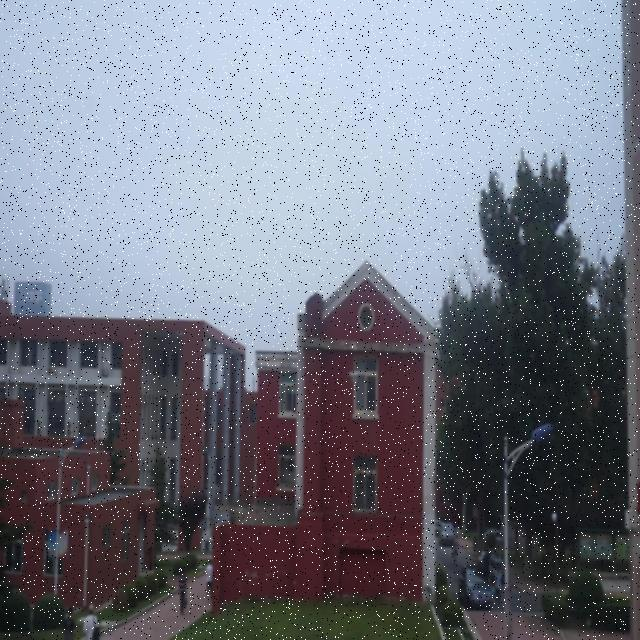UAV: (348, 371, 360, 382)
